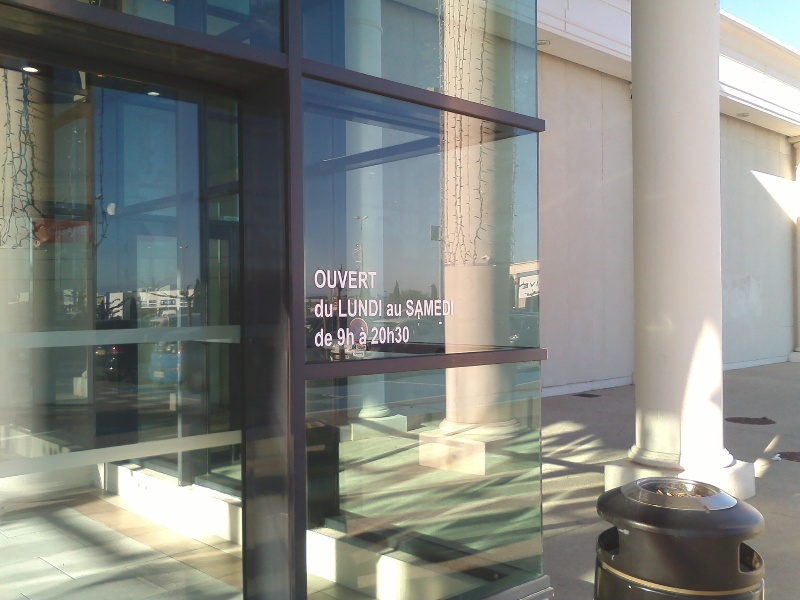text: (321, 270, 336, 290), (337, 270, 352, 290), (353, 270, 368, 290), (337, 327, 352, 347), (353, 299, 368, 318), (385, 326, 400, 345), (417, 299, 432, 317), (433, 299, 448, 317), (338, 299, 352, 318), (369, 299, 383, 318), (321, 327, 333, 348), (321, 299, 334, 318), (371, 326, 384, 345), (386, 304, 400, 317), (369, 270, 378, 290), (406, 299, 416, 317), (401, 326, 410, 345), (359, 327, 368, 345), (49, 226, 64, 236), (65, 226, 80, 236), (81, 226, 96, 236), (314, 270, 320, 290), (315, 327, 320, 348), (529, 281, 540, 290), (315, 299, 320, 318), (449, 299, 454, 317), (97, 297, 112, 303), (161, 300, 176, 305), (357, 345, 368, 350), (522, 281, 528, 290), (337, 355, 349, 359), (353, 327, 355, 347), (155, 372, 160, 377), (161, 372, 165, 377), (401, 304, 402, 317)
